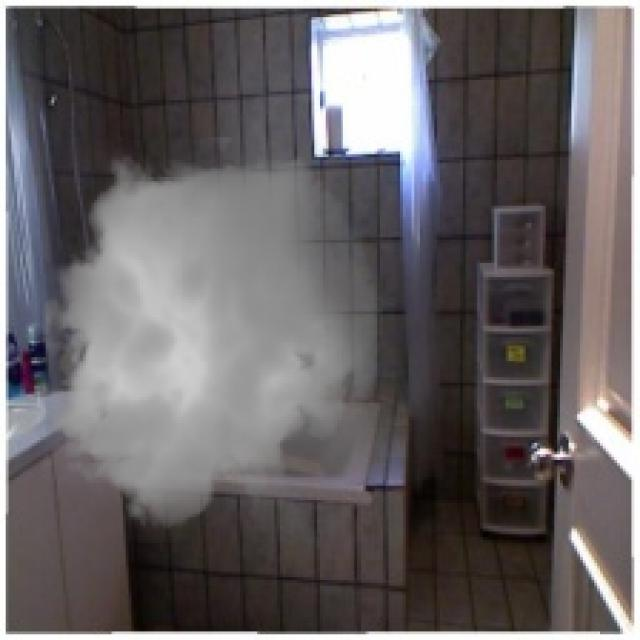smoke: (29, 137, 394, 543)
